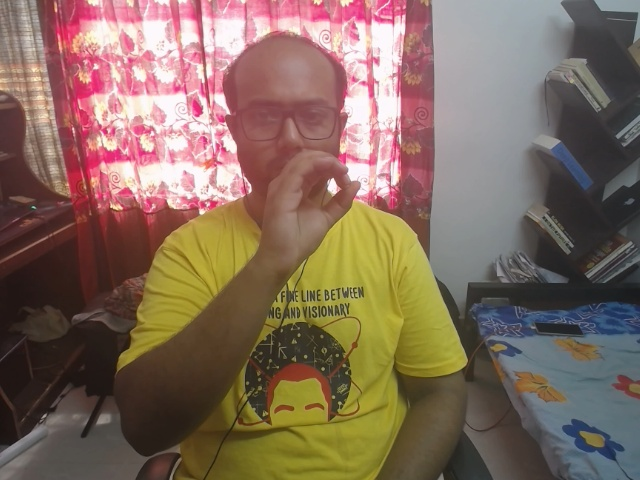zero: (245, 141, 379, 285)
